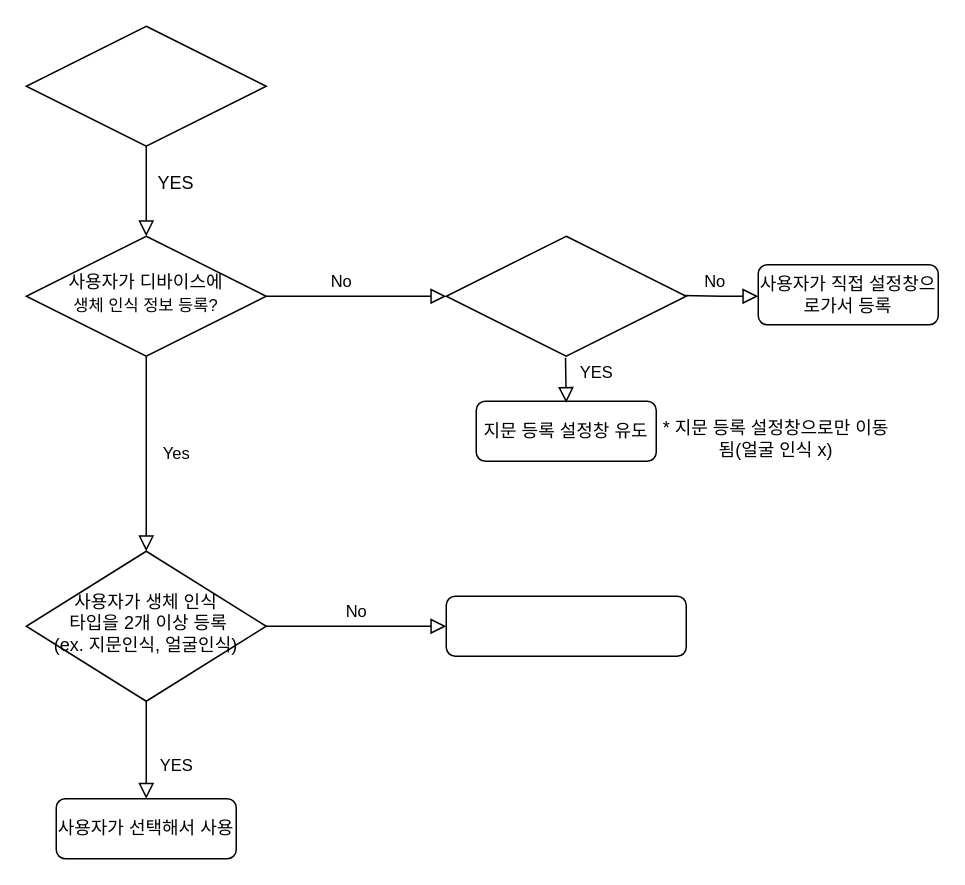
Some shapes in this 965 by 885 pixel diagram are drawn without their labels. Each missing label, with the box of its shape:
등록된 생체 인식 프롬프트 Show: (445, 595, 686, 656)
디바이스가 생체인식 API를 지원하고 센서가 있는가?: (25, 25, 266, 146)
사용자 OS API 30 이상?: (445, 235, 686, 356)
